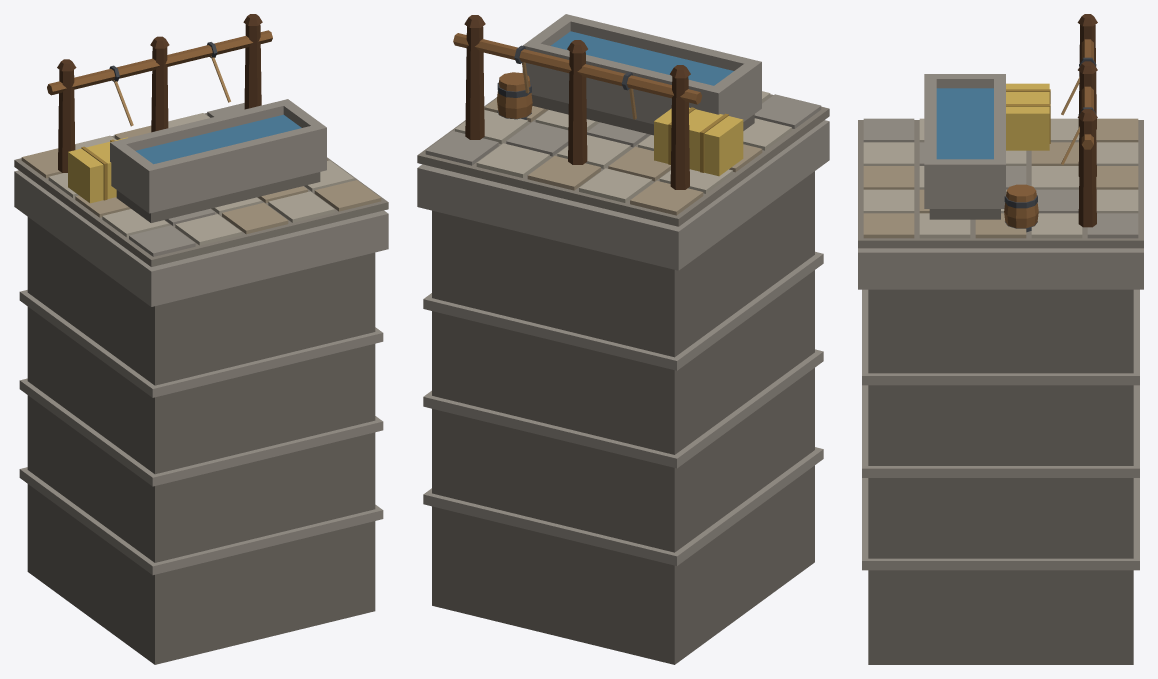
Rendered from decor_hitching_post.glb.
The picture shows the model from 3 angles, left to right: view 1: azimuth 30°, elevation 25°; view 2: azimuth 150°, elevation 25°; view 3: azimuth 270°, elevation 25°; orthographic projection. The views are drawn at different scales.
Parts seen in each view (by area): view 1: decor_hitching_post; view 2: decor_hitching_post; view 3: decor_hitching_post.
Boxes of the visible parts, box(x1,y1,x2,y2) form: decor_hitching_post: box(14, 14, 388, 664); decor_hitching_post: box(417, 14, 829, 664); decor_hitching_post: box(858, 14, 1143, 664).
Size of the model in its own units: 2.8 by 5.89 by 2.8.
